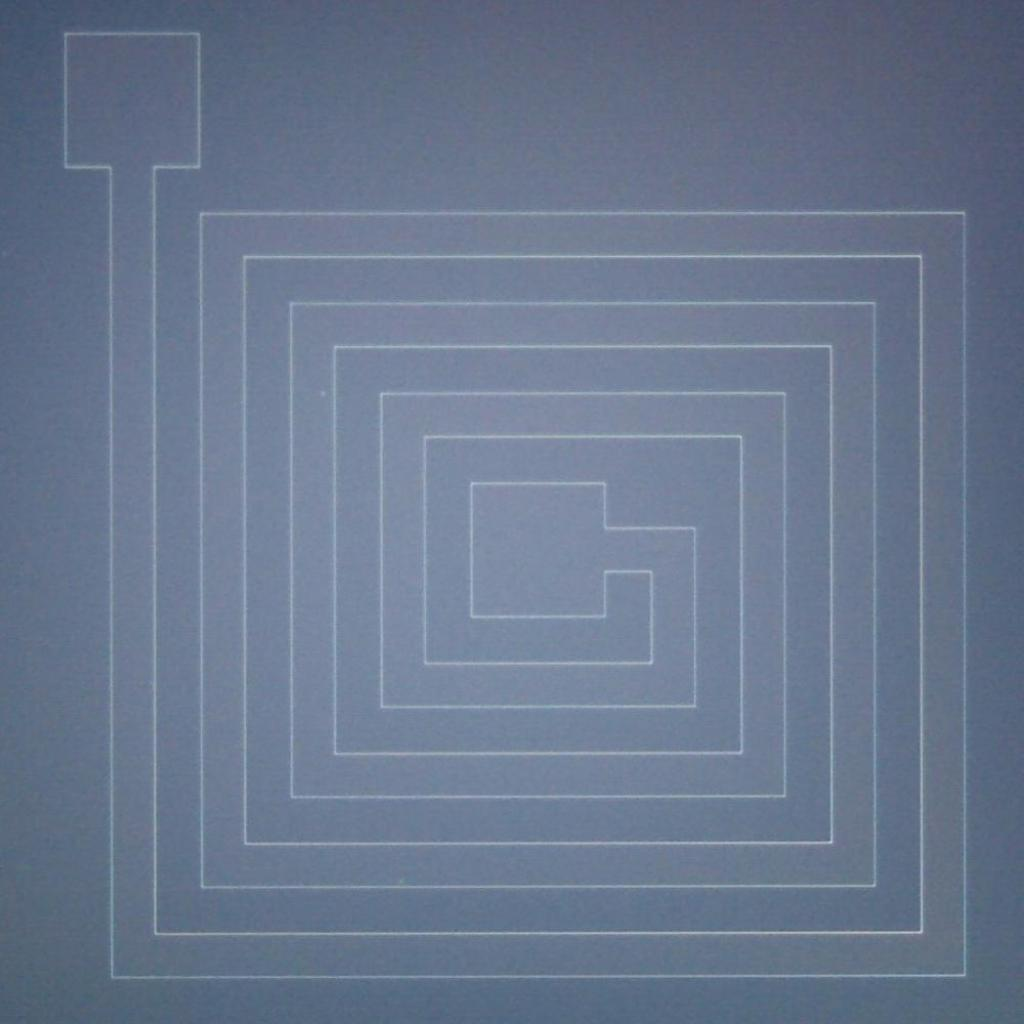dot: (320, 390, 328, 398)
